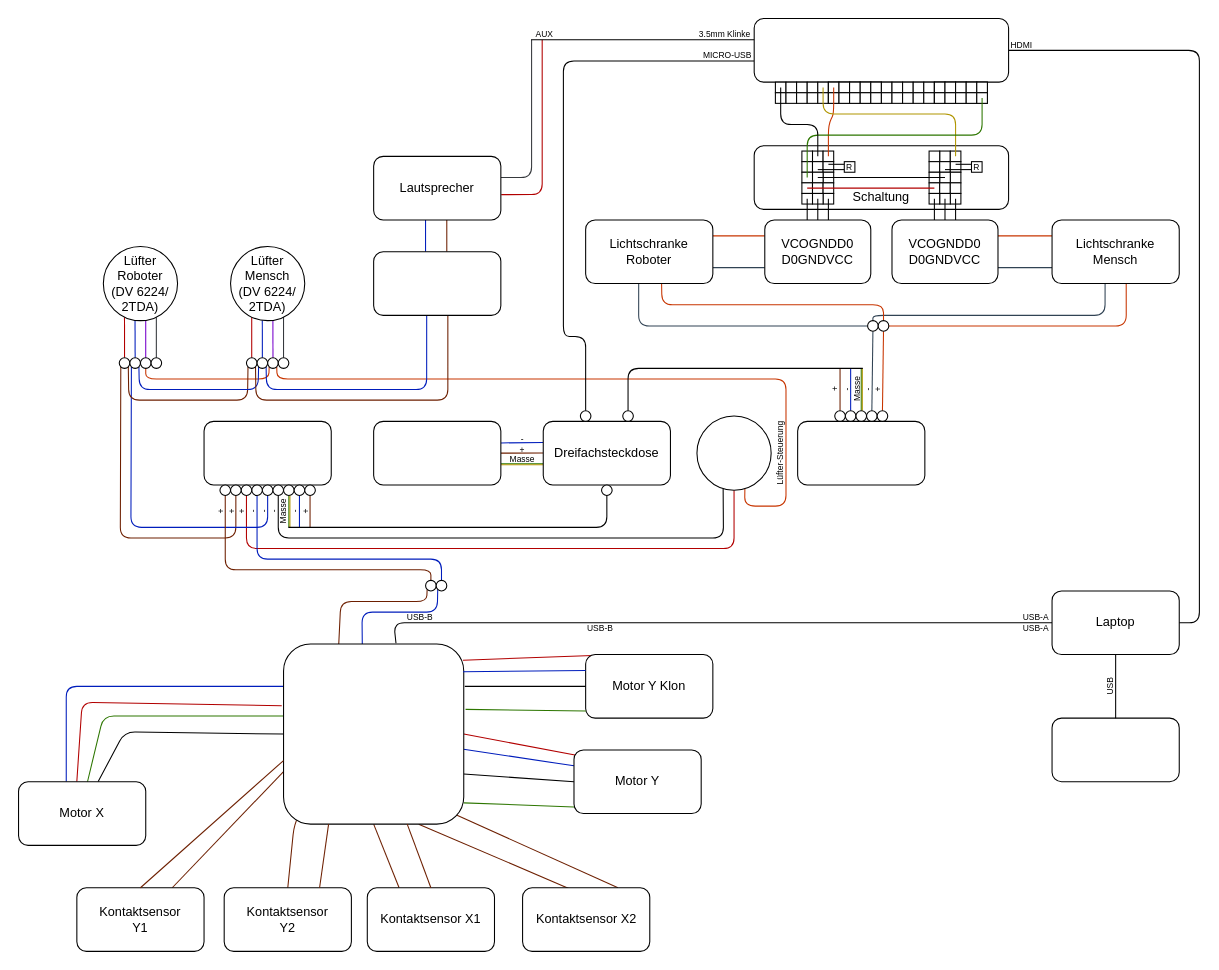
Some shapes in this 1219 by 970 pixel diagram are drawn without their labels. Each missing label, with the centre of its shape:
Dreh- widerstand (ab 10K): point (733, 452)
Großes Netzteil (S-360-24): point (267, 452)
Kamera: point (1115, 749)
Kleines Netzteil (S-30-5): point (861, 452)
Lautsprecher-steuerung (HX-M510): point (437, 283)
Motorsteuerung quer (Arduino CNC Shield V3.0): point (373, 733)
Raspberry Pi: point (881, 49)
Stromanschluss/ Kippschalter: point (437, 452)
